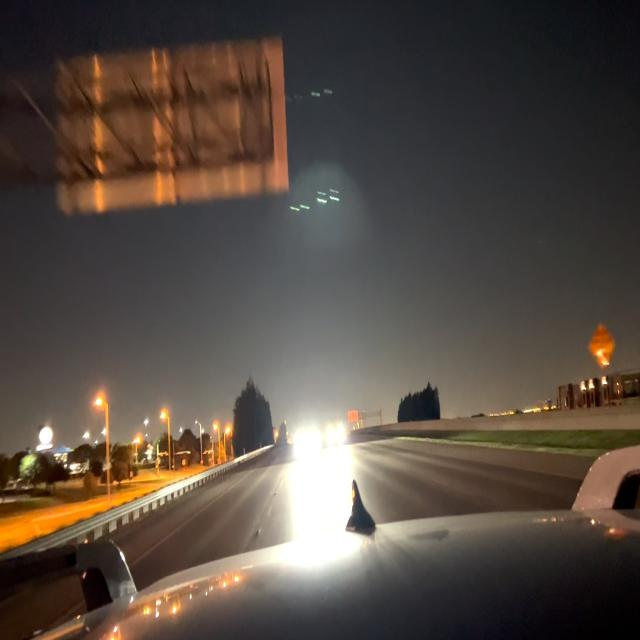back-of-sign: (56, 36, 290, 214)
